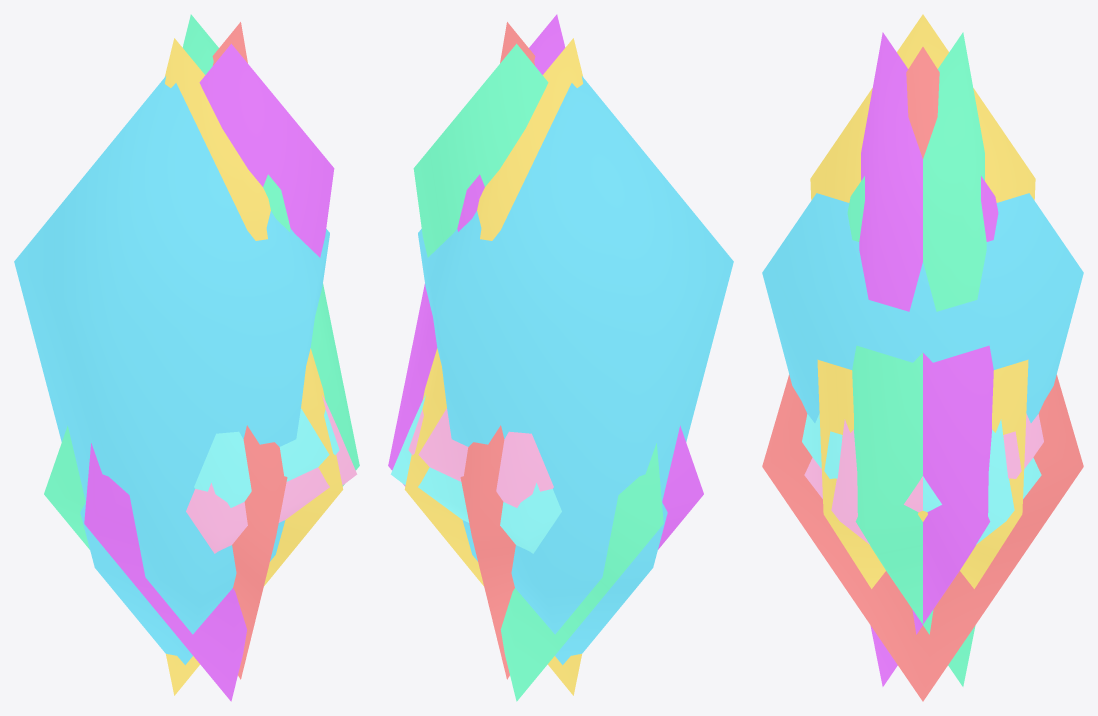
File: crystal_animation.glb
3 views of the same model, side by side, from view 1: azimuth 30°, elevation 25°; view 2: azimuth 150°, elevation 25°; view 3: azimuth 270°, elevation 25° (orthographic).
Parts seen in each view (by area): view 1: CrystalShard_01, CrystalShard_02, CrystalShard_04, CrystalShard_03, CrystalShard_05, CrystalShard_06, CrystalShard_07; view 2: CrystalShard_01, CrystalShard_03, CrystalShard_04, CrystalShard_02, CrystalShard_05, CrystalShard_07, CrystalShard_06; view 3: CrystalShard_01, CrystalShard_02, CrystalShard_03, CrystalShard_05, CrystalShard_04, CrystalShard_06, CrystalShard_07.
Boxes of the visible parts, x1,y1,x2,y2 form: CrystalShard_01: [14, 76, 329, 665]; CrystalShard_02: [84, 43, 334, 701]; CrystalShard_04: [165, 38, 343, 695]; CrystalShard_03: [44, 14, 359, 549]; CrystalShard_05: [212, 22, 287, 679]; CrystalShard_06: [194, 408, 339, 507]; CrystalShard_07: [186, 395, 357, 553]; CrystalShard_01: [418, 76, 733, 665]; CrystalShard_03: [413, 43, 663, 701]; CrystalShard_04: [404, 38, 582, 695]; CrystalShard_02: [388, 14, 703, 549]; CrystalShard_05: [460, 22, 535, 679]; CrystalShard_07: [408, 408, 553, 507]; CrystalShard_06: [390, 395, 561, 553]; CrystalShard_01: [762, 193, 1083, 422]; CrystalShard_02: [859, 32, 998, 686]; CrystalShard_03: [847, 32, 986, 686]; CrystalShard_05: [762, 47, 1083, 701]; CrystalShard_04: [810, 14, 1035, 588]; CrystalShard_06: [802, 413, 1041, 544]; CrystalShard_07: [804, 413, 1043, 544].
Size of what is drawn, in the model's own units: 1.7 by 4.02 by 1.79.
